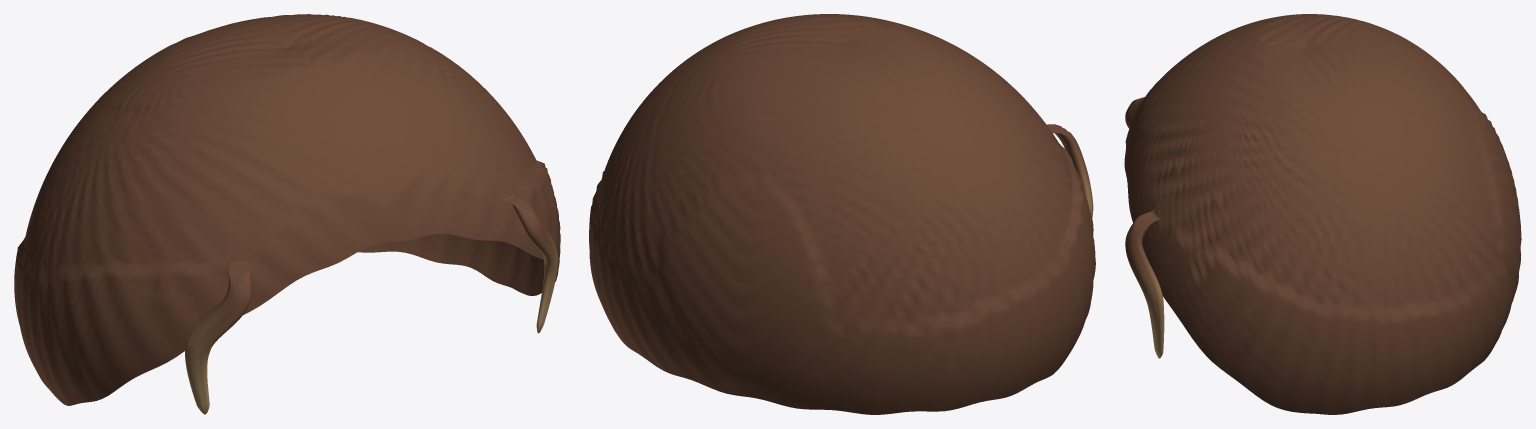
Rendered from Ombre-13d7c995fe0c253-hair.glb.
The picture shows the model from 3 angles, left to right: view 1: azimuth 30°, elevation 25°; view 2: azimuth 150°, elevation 25°; view 3: azimuth 270°, elevation 25°; orthographic projection. The views are drawn at different scales.
Parts seen in each view (by area): view 1: 226 hair / Hair / chestnut226.002; view 2: 226 hair / Hair / chestnut226.002; view 3: 226 hair / Hair / chestnut226.002.
Boxes of the visible parts, x1=… form: 226 hair / Hair / chestnut226.002: x1=14, y1=14, x2=560, y2=414; 226 hair / Hair / chestnut226.002: x1=589, y1=14, x2=1095, y2=414; 226 hair / Hair / chestnut226.002: x1=1124, y1=14, x2=1521, y2=414.
Bounding box in the file's own units: 0.9988 × 0.599 × 0.7845.
Materials: 1 (1 with a texture image).
